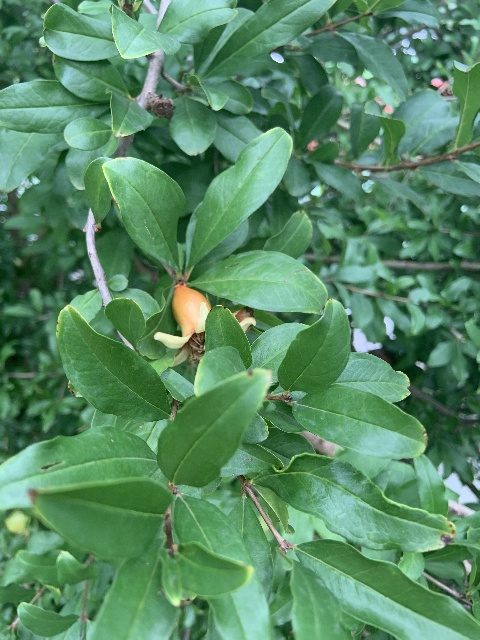early-fruit: (153, 285, 256, 366)
